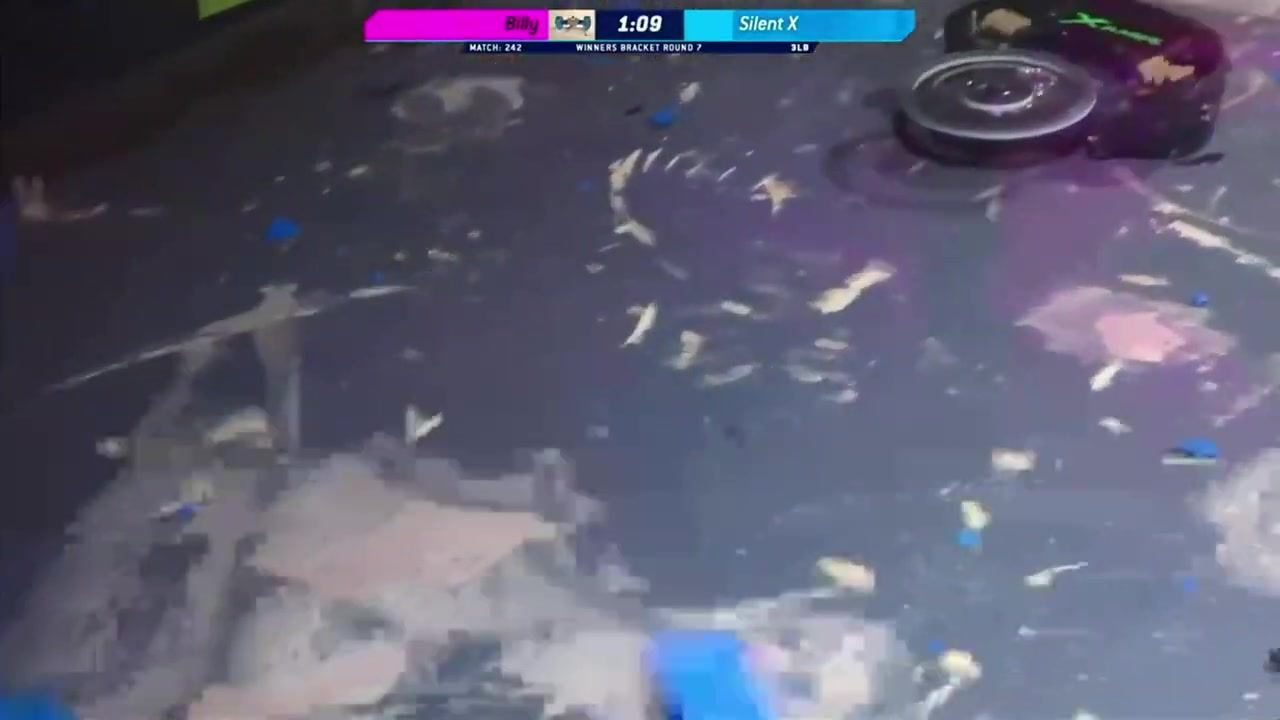combatbot: (902, 2, 1228, 171)
